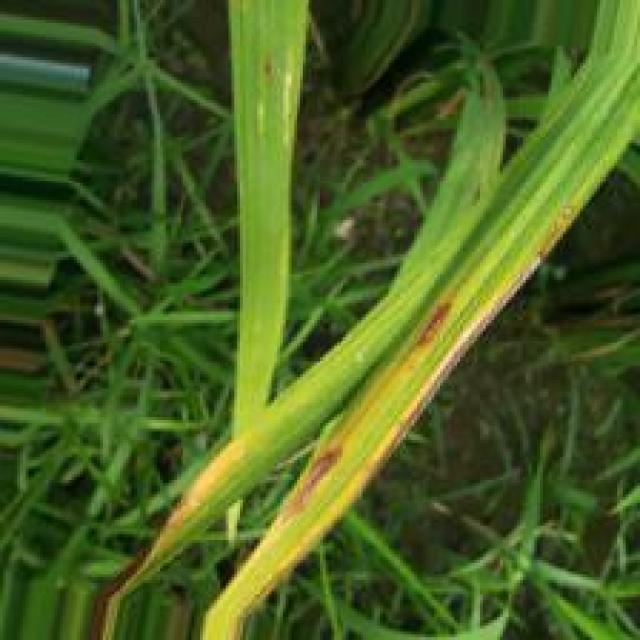Narrow_Brown_Leaf_Spot: (229, 197, 583, 629), (153, 433, 256, 560)
